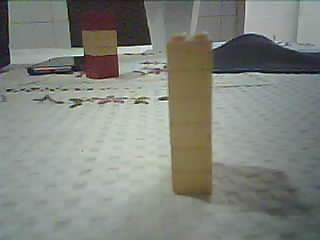lego: (164, 31, 212, 196), (80, 11, 118, 79)
